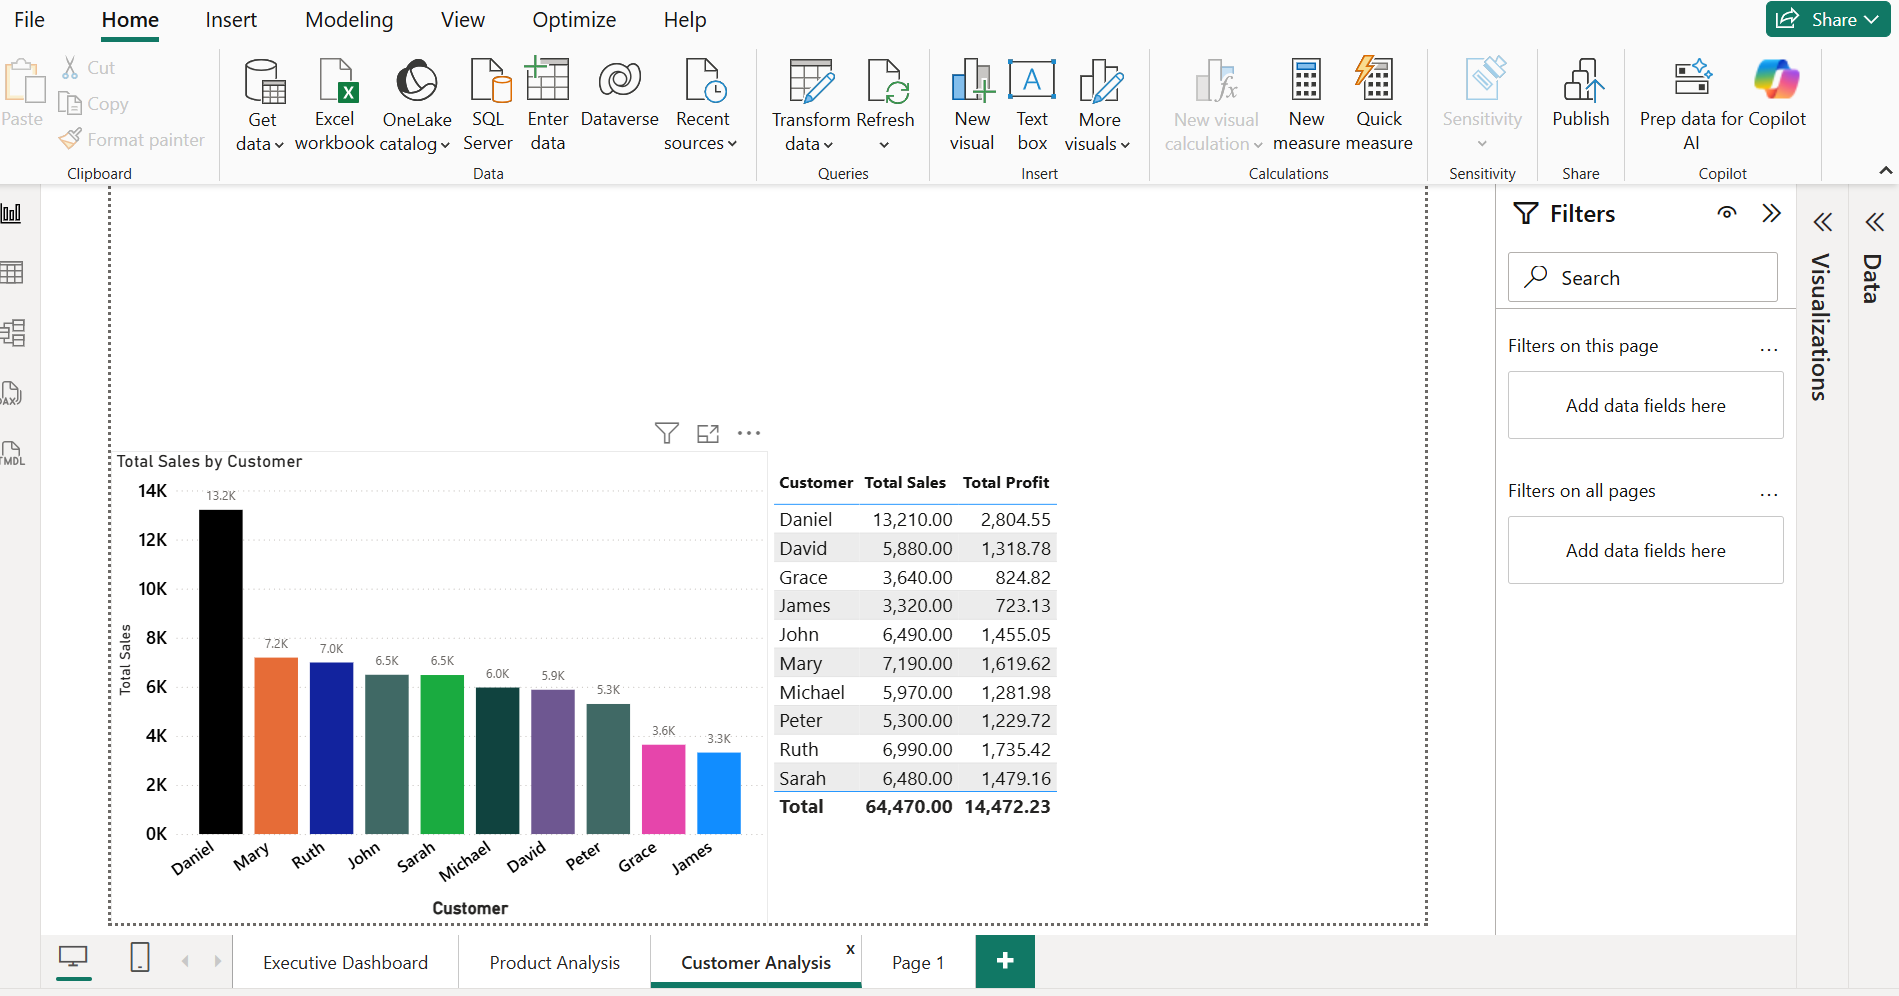

What the dashboard file says about the page in this screenshot:
{"tool":"powerbi","page":{"name":"Customer Analysis","canvas":[1280,720],"ordinal":2},"visuals":[{"type":"columnChart","fields":{"Category":["SalesData.Customer"],"Y":["SalesData.Total Sales"]},"box":[0,260.8,640.6,459.2],"z":0},{"type":"tableEx","fields":{"Values":["SalesData.Customer","SalesData.Total Sales","SalesData.Total Profit"]},"box":[640.6,274,638.7,446],"z":1000}]}

Visuals, with their boxes on the page's 1280x720 design canvas (x1, y1, x2, y2). These are canvas units, not pixel positions in the 1899x996 screenshot, which may show the page scaled, cropped or inside an application window:
columnChart - SalesData.Customer x SalesData.Total Sales: bbox(0, 261, 641, 720)
tableEx - SalesData.Customer x SalesData.Total Sales: bbox(641, 274, 1279, 720)
